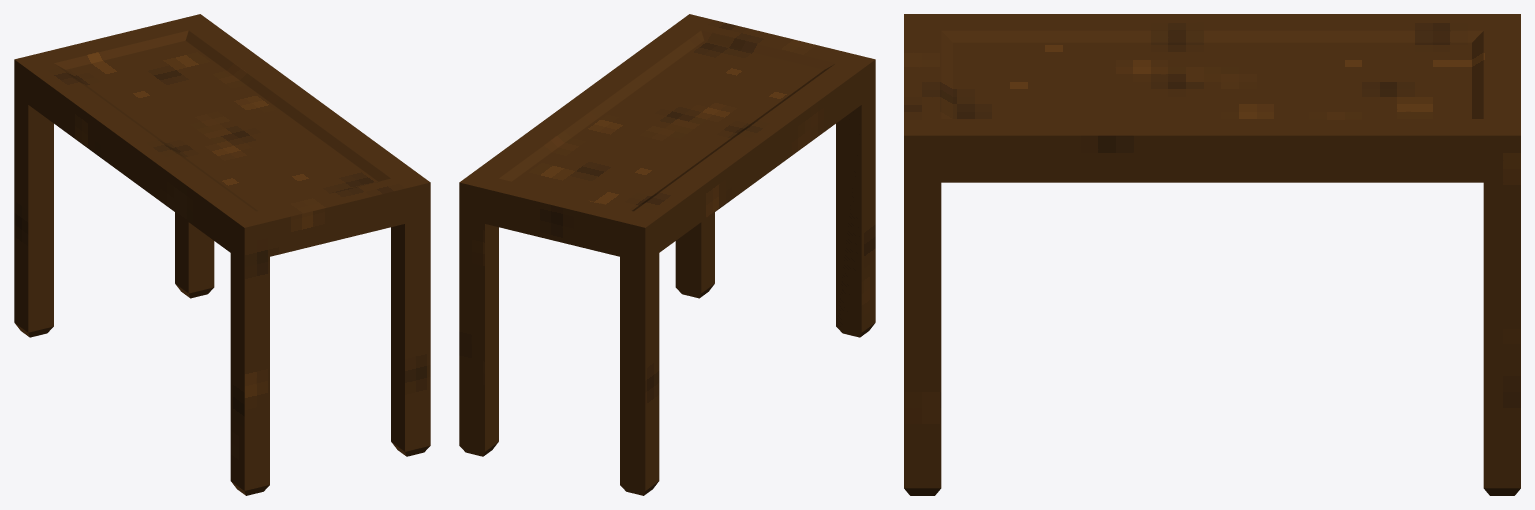
The model's file is PixelTable.glb.
3 views of the same model, side by side, from view 1: azimuth 30°, elevation 25°; view 2: azimuth 150°, elevation 25°; view 3: azimuth 270°, elevation 25° (orthographic). The views are drawn at different scales.
Visible parts, largest first — view 1: Cube; view 2: Cube; view 3: Cube.
Boxes of the visible parts, x1=… form: Cube: x1=14, y1=14, x2=430, y2=495; Cube: x1=459, y1=14, x2=875, y2=495; Cube: x1=904, y1=14, x2=1520, y2=495.
Bounding box in the file's own units: 2.76 × 3.84 × 5.91.
Materials: 1 (1 with a texture image).
